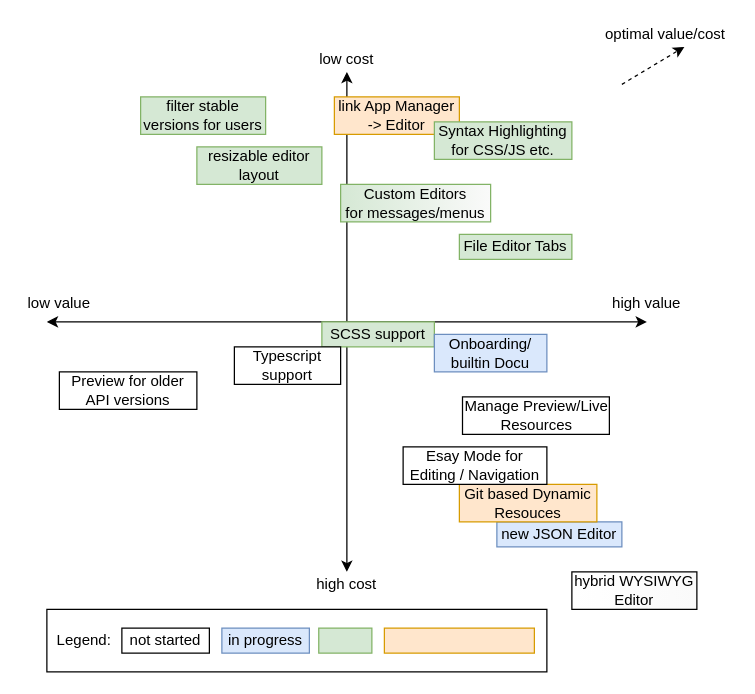
The diagram is 755 pixels wide and 694 high, and some of its shapes have lost their labels. Each missing label, with the centre of its shape:
done: point 345,640
external dependency: point 458,640
